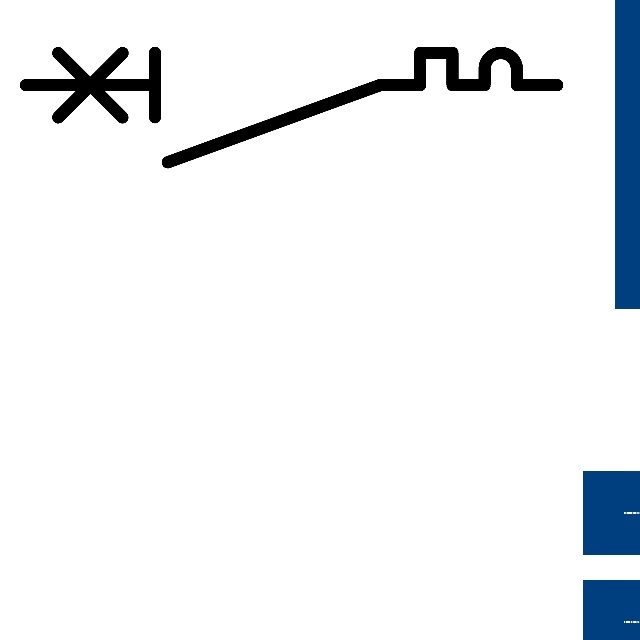interruptor_termomagnetico: (12, 39, 571, 176)
